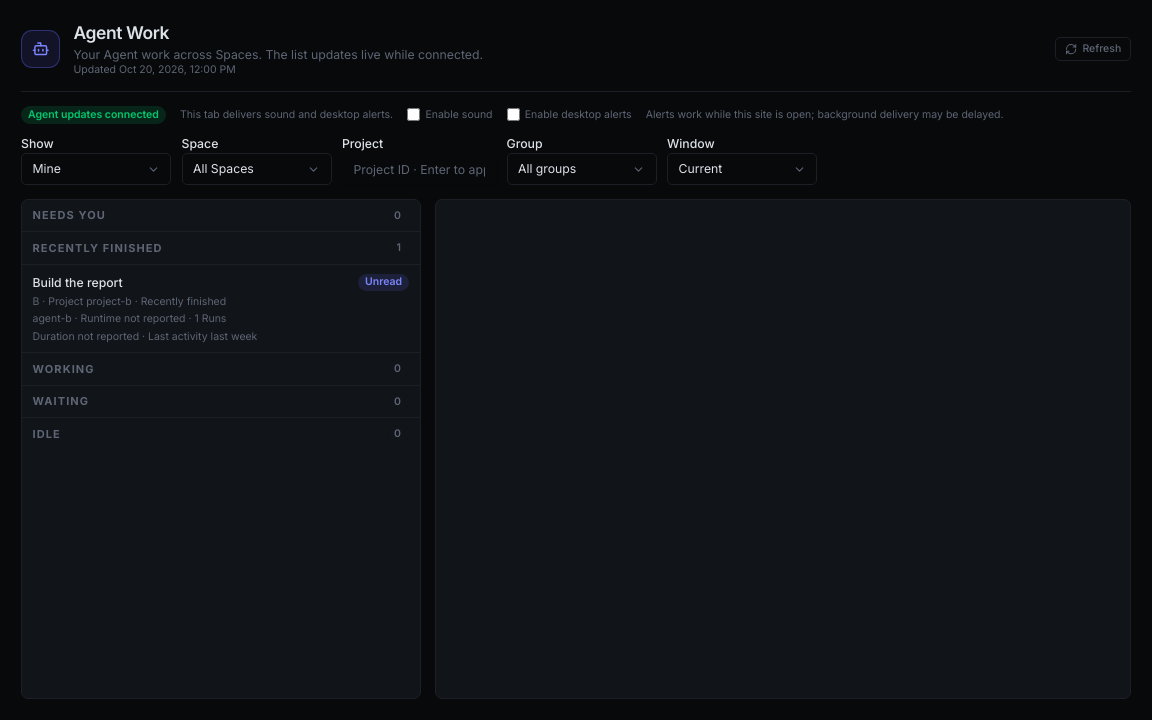
Test: Agent Work page › does not acknowledge a failed Turn read
Click the button "Build the report" at (221, 308), box x1=22 y1=264 x2=420 y2=352
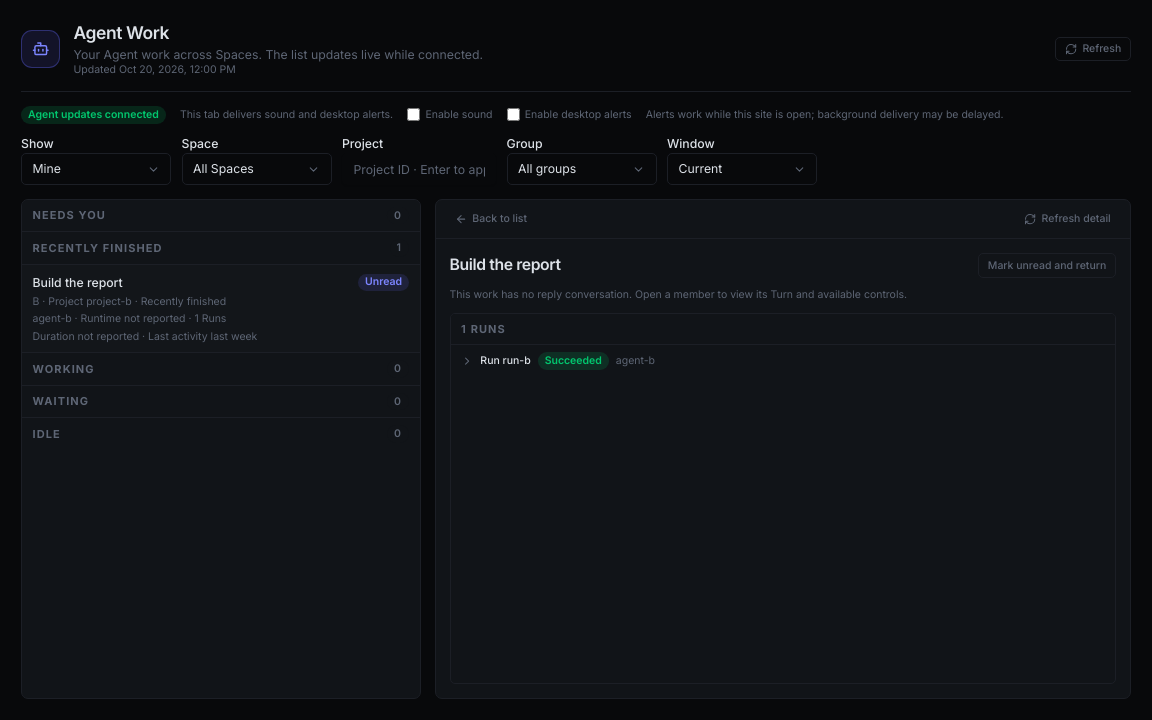
Click the button "Run run-b Succeeded agent-b" at (505, 360), box x1=451 y1=345 x2=1115 y2=377
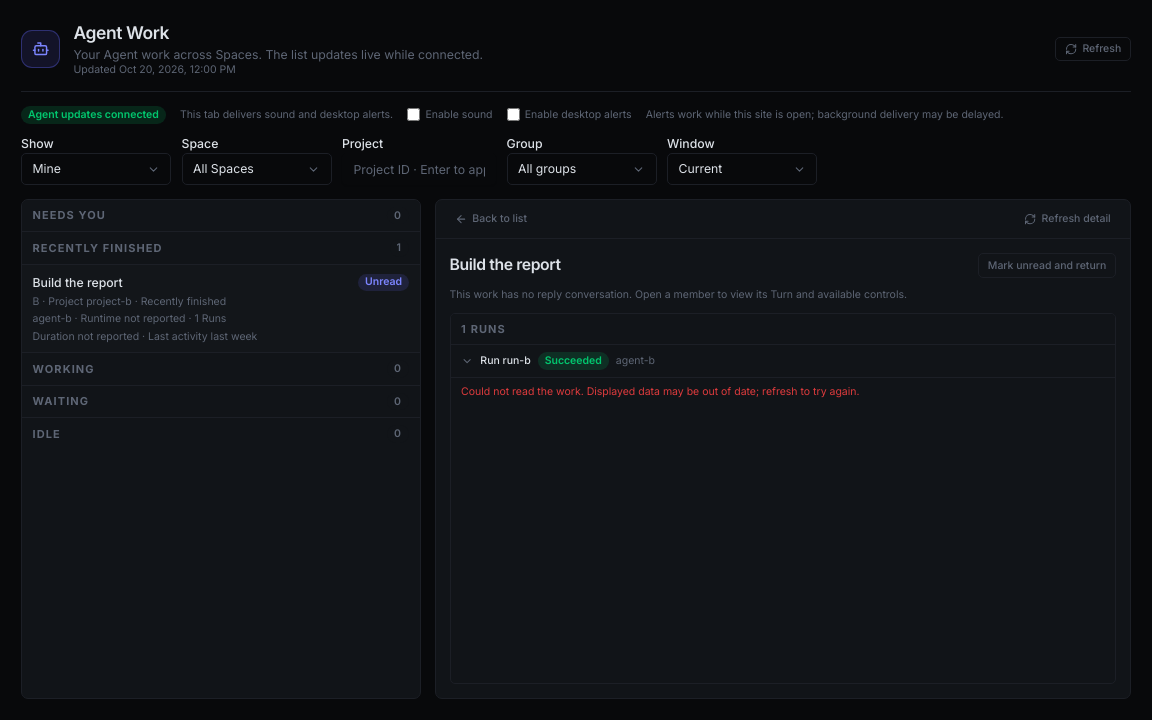
Now the 2nd message shows "Could not read", box x1=461 y1=385 x2=860 y2=398
